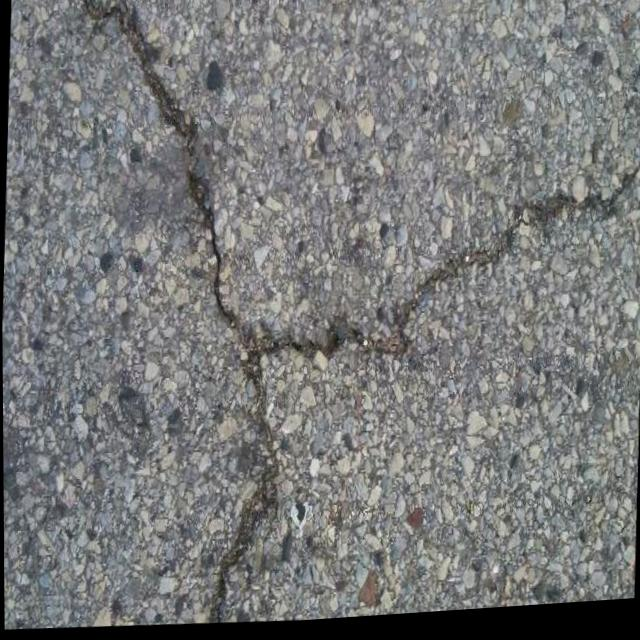Crack: (57, 0, 301, 635), (240, 140, 640, 405)
